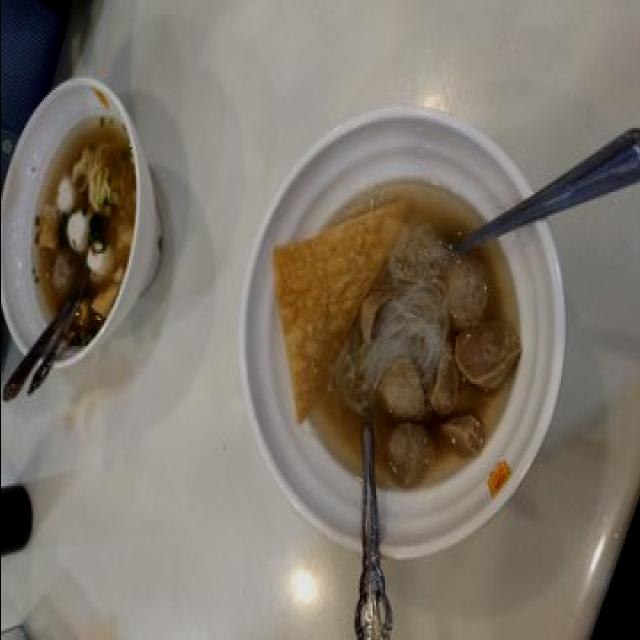bakso: (272, 185, 523, 500)
